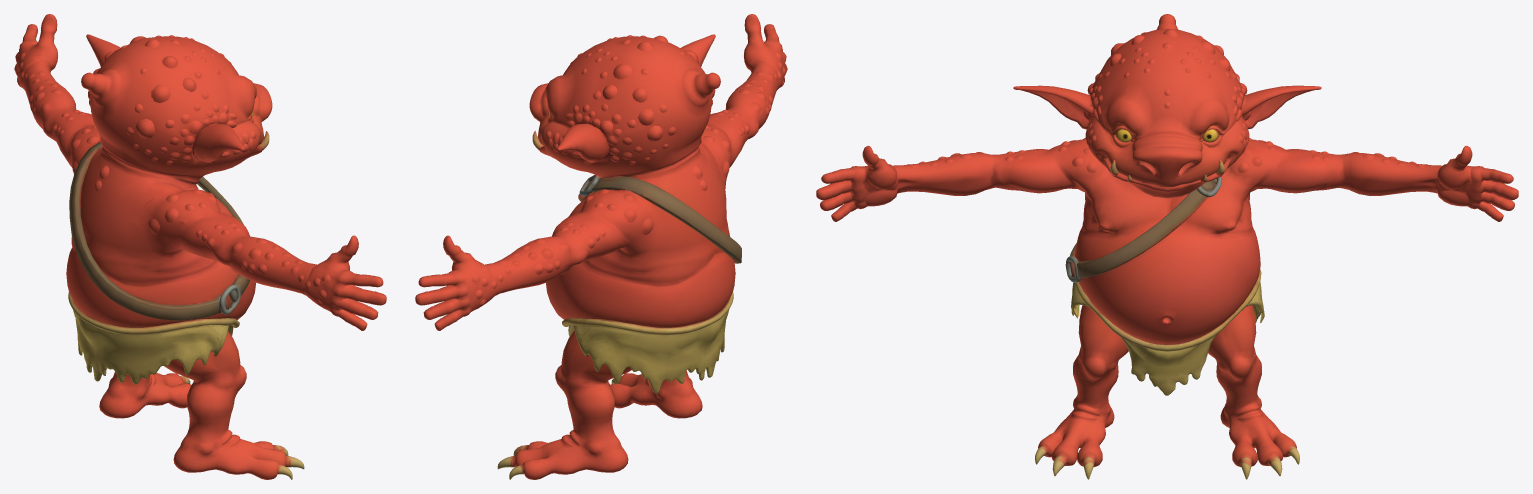
The model's file is source.glb.
3 views of the same model, side by side, from view 1: azimuth 30°, elevation 25°; view 2: azimuth 150°, elevation 25°; view 3: azimuth 270°, elevation 25° (orthographic).
Parts seen in each view (by area): view 1: tripo_node_6bf1c564-e1b3-450d-8b6b-c711441a0bf9; view 2: tripo_node_6bf1c564-e1b3-450d-8b6b-c711441a0bf9; view 3: tripo_node_6bf1c564-e1b3-450d-8b6b-c711441a0bf9.
Part boxes in pixels (left/top/right/bottom): tripo_node_6bf1c564-e1b3-450d-8b6b-c711441a0bf9: left=14, top=14, right=386, bottom=479; tripo_node_6bf1c564-e1b3-450d-8b6b-c711441a0bf9: left=415, top=14, right=787, bottom=479; tripo_node_6bf1c564-e1b3-450d-8b6b-c711441a0bf9: left=816, top=14, right=1518, bottom=479.
Size of the model in its own units: 0.3091 by 0.6372 by 0.9995.
Materials: 1 (1 with a texture image).
